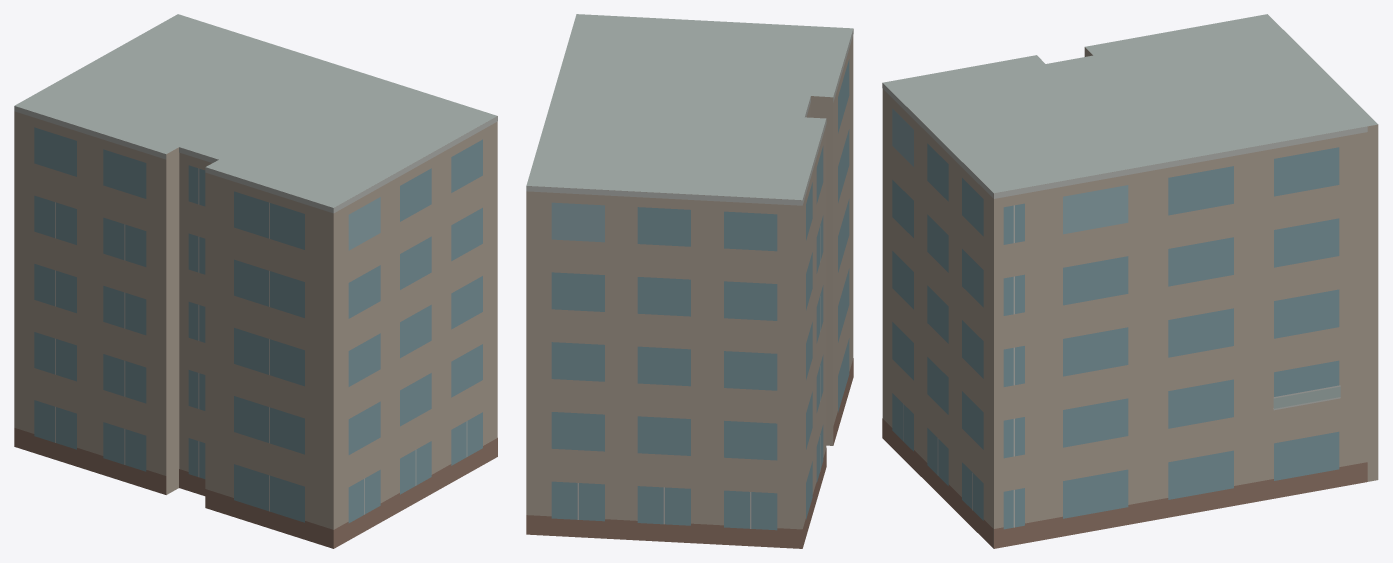
Rendered from survey-upis-32754082.glb.
3 views of the same model, side by side, from view 1: azimuth 30°, elevation 25°; view 2: azimuth 150°, elevation 25°; view 3: azimuth 270°, elevation 25° (orthographic). The views are drawn at different scales.
Visible parts, largest first — view 1: survey-upis-32754082.tmp; view 2: survey-upis-32754082.tmp; view 3: survey-upis-32754082.tmp.
Part boxes in pixels (x1=…): survey-upis-32754082.tmp: x1=14, y1=14, x2=497, y2=548; survey-upis-32754082.tmp: x1=526, y1=14, x2=853, y2=548; survey-upis-32754082.tmp: x1=882, y1=14, x2=1378, y2=548.
Size of the model in its own units: 16.5 by 15.25 by 19.29.
